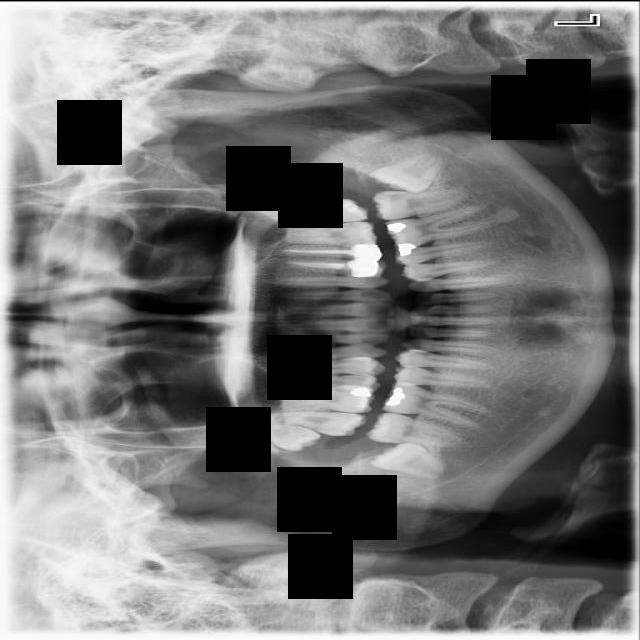3M ESPE Implant: (231, 416, 323, 455)
52: (380, 374, 426, 422), (384, 212, 426, 254), (339, 382, 375, 414), (346, 258, 388, 277), (391, 245, 429, 266), (352, 243, 385, 262)
73: (272, 254, 349, 274), (272, 243, 349, 258), (560, 27, 566, 31)
BioHorizons Implant: (266, 196, 370, 226)
BioLife Implant: (222, 179, 325, 218)
Biomet 3i Implant: (366, 145, 454, 206)
Blue Sky Bio Implant: (371, 186, 467, 220)
Caries: (243, 406, 368, 437)
Implant: (364, 410, 468, 448)
Keystone Dental Implant: (365, 432, 447, 480)
